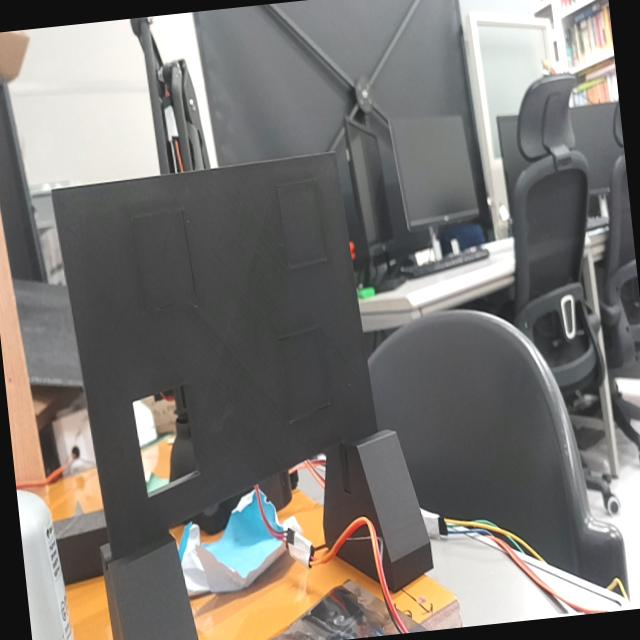Obstacle: (133, 387, 199, 501)
Wall: (51, 150, 377, 552)
